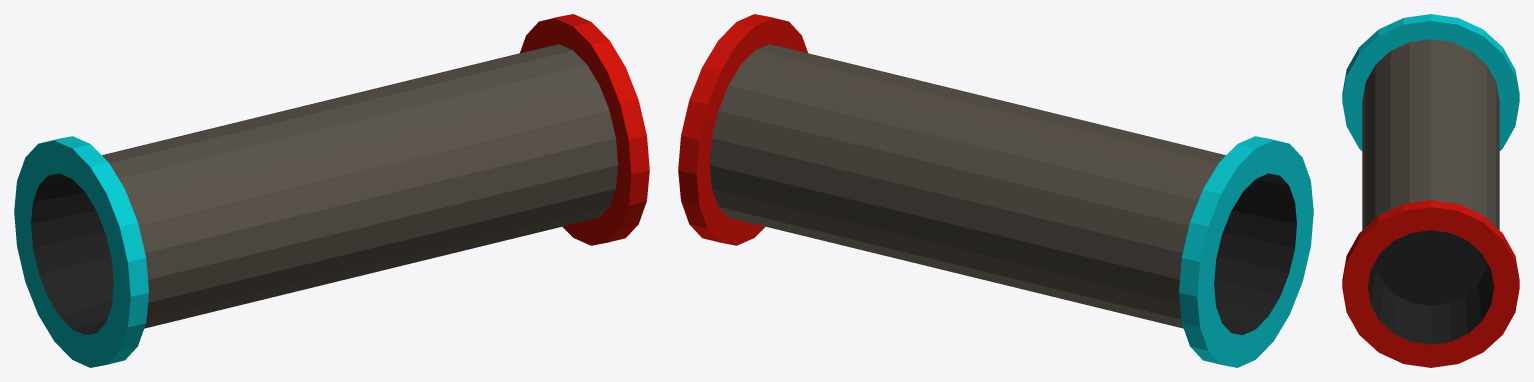
The model's file is PipeFloating.fbx.
3 views of the same model, side by side, from view 1: azimuth 30°, elevation 25°; view 2: azimuth 150°, elevation 25°; view 3: azimuth 270°, elevation 25° (orthographic). The views are drawn at different scales.
Parts seen in each view (by area): view 1: DoublePipe; view 2: DoublePipe; view 3: DoublePipe.
Part boxes in pixels (left/top/right/bottom): DoublePipe: left=14, top=14, right=649, bottom=367; DoublePipe: left=678, top=14, right=1313, bottom=367; DoublePipe: left=1342, top=14, right=1519, bottom=367.
Bounding box in the file's own units: 166 × 64.46 × 64.46.
